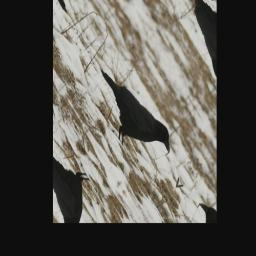Crow: (86, 48, 180, 184)
